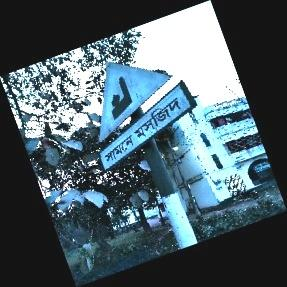Mosque in front: (97, 59, 197, 172)
